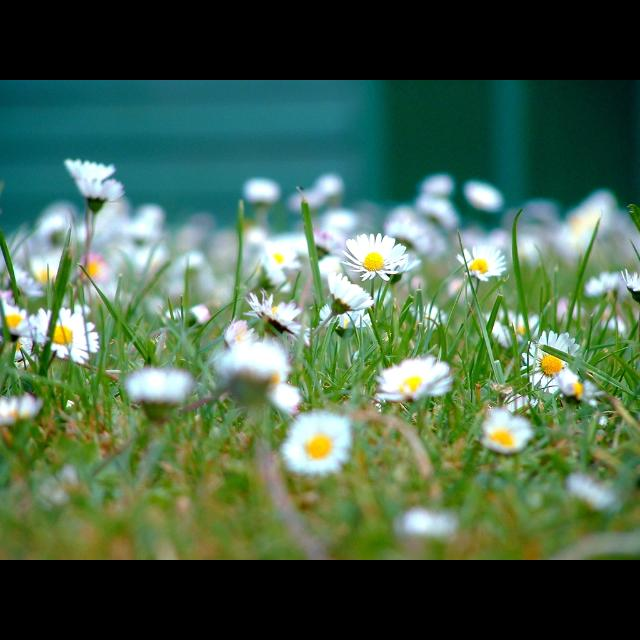Flower: (276, 406, 354, 482), (514, 330, 590, 396), (34, 306, 102, 368), (338, 230, 406, 286), (238, 290, 304, 340), (376, 357, 450, 395), (477, 409, 528, 458), (452, 242, 506, 286), (324, 272, 371, 316), (551, 363, 593, 402), (582, 268, 626, 298), (78, 176, 126, 200), (64, 158, 112, 178), (616, 270, 640, 304)
